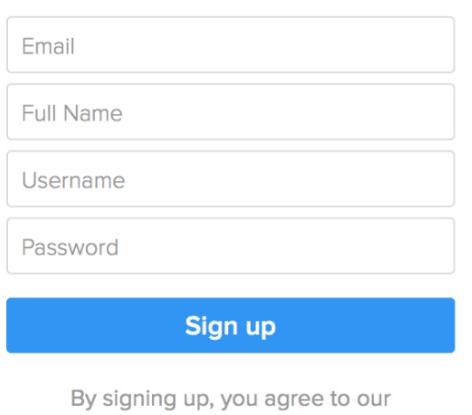button: (4, 296, 456, 353)
field: (4, 15, 456, 75), (5, 83, 457, 142), (5, 216, 457, 275), (5, 149, 456, 208)
